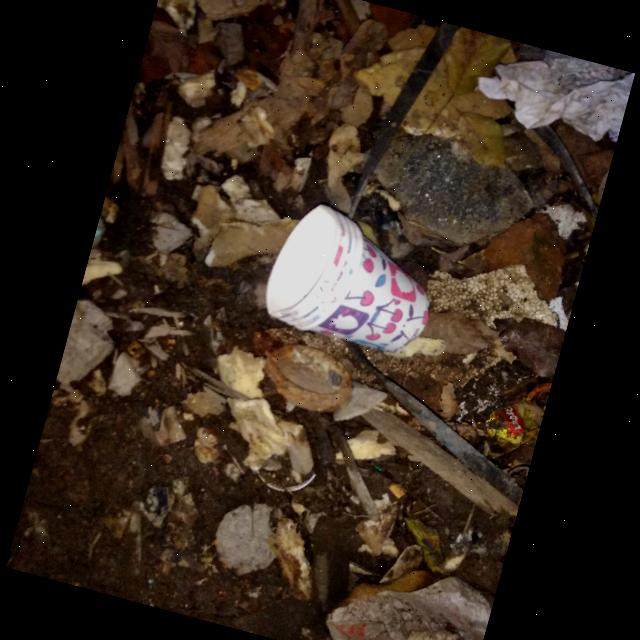trash: (256, 194, 452, 363), (466, 34, 634, 152), (316, 545, 497, 640), (205, 492, 288, 584)
